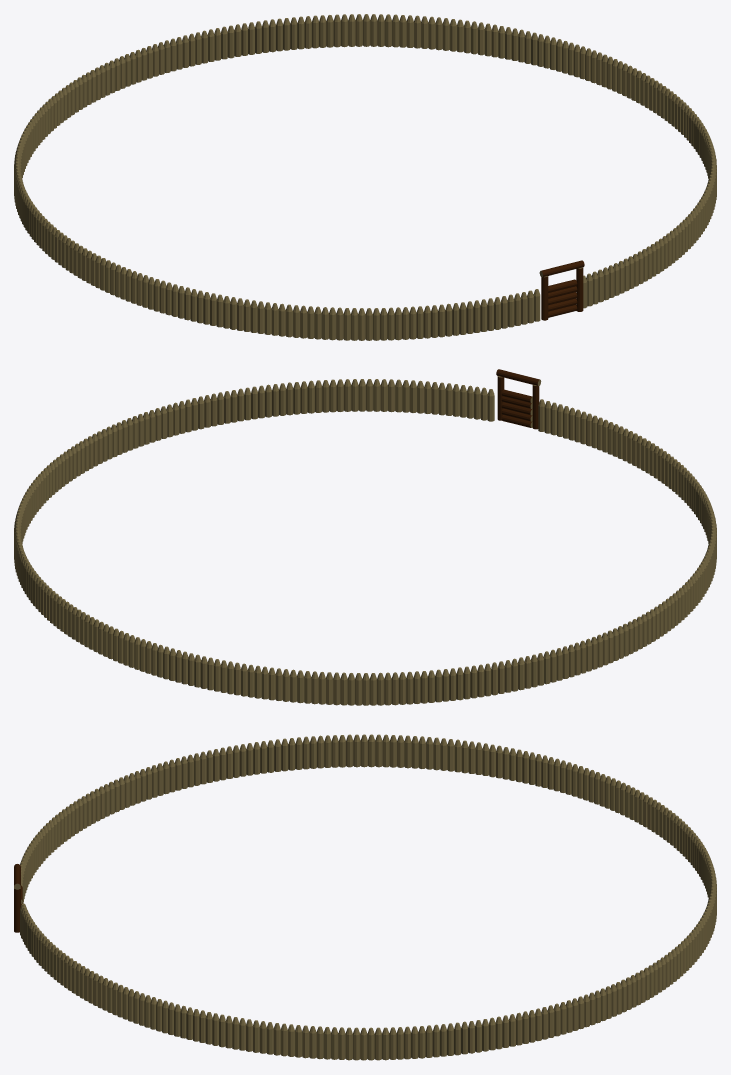
Rendered from CFence.fbx.
3 renders of one model, top to bottom at view 1: azimuth 30°, elevation 25°; view 2: azimuth 150°, elevation 25°; view 3: azimuth 270°, elevation 25°, orthographic.
Parts seen in each view (by area): view 1: Cylinder.007, Cylinder.008, Cylinder.009; view 2: Cylinder.007, Cylinder.009, Cylinder.008; view 3: Cylinder.007.
Part boxes in pixels (x1,y1,x2,y2): Cylinder.007: (14, 14, 716, 340); Cylinder.008: (539, 260, 584, 320); Cylinder.009: (548, 279, 577, 317); Cylinder.007: (14, 379, 716, 705); Cylinder.009: (501, 389, 532, 427); Cylinder.008: (496, 369, 541, 429); Cylinder.007: (20, 734, 716, 1060).
Size of the model in its own units: 5791 by 450 by 5806.
